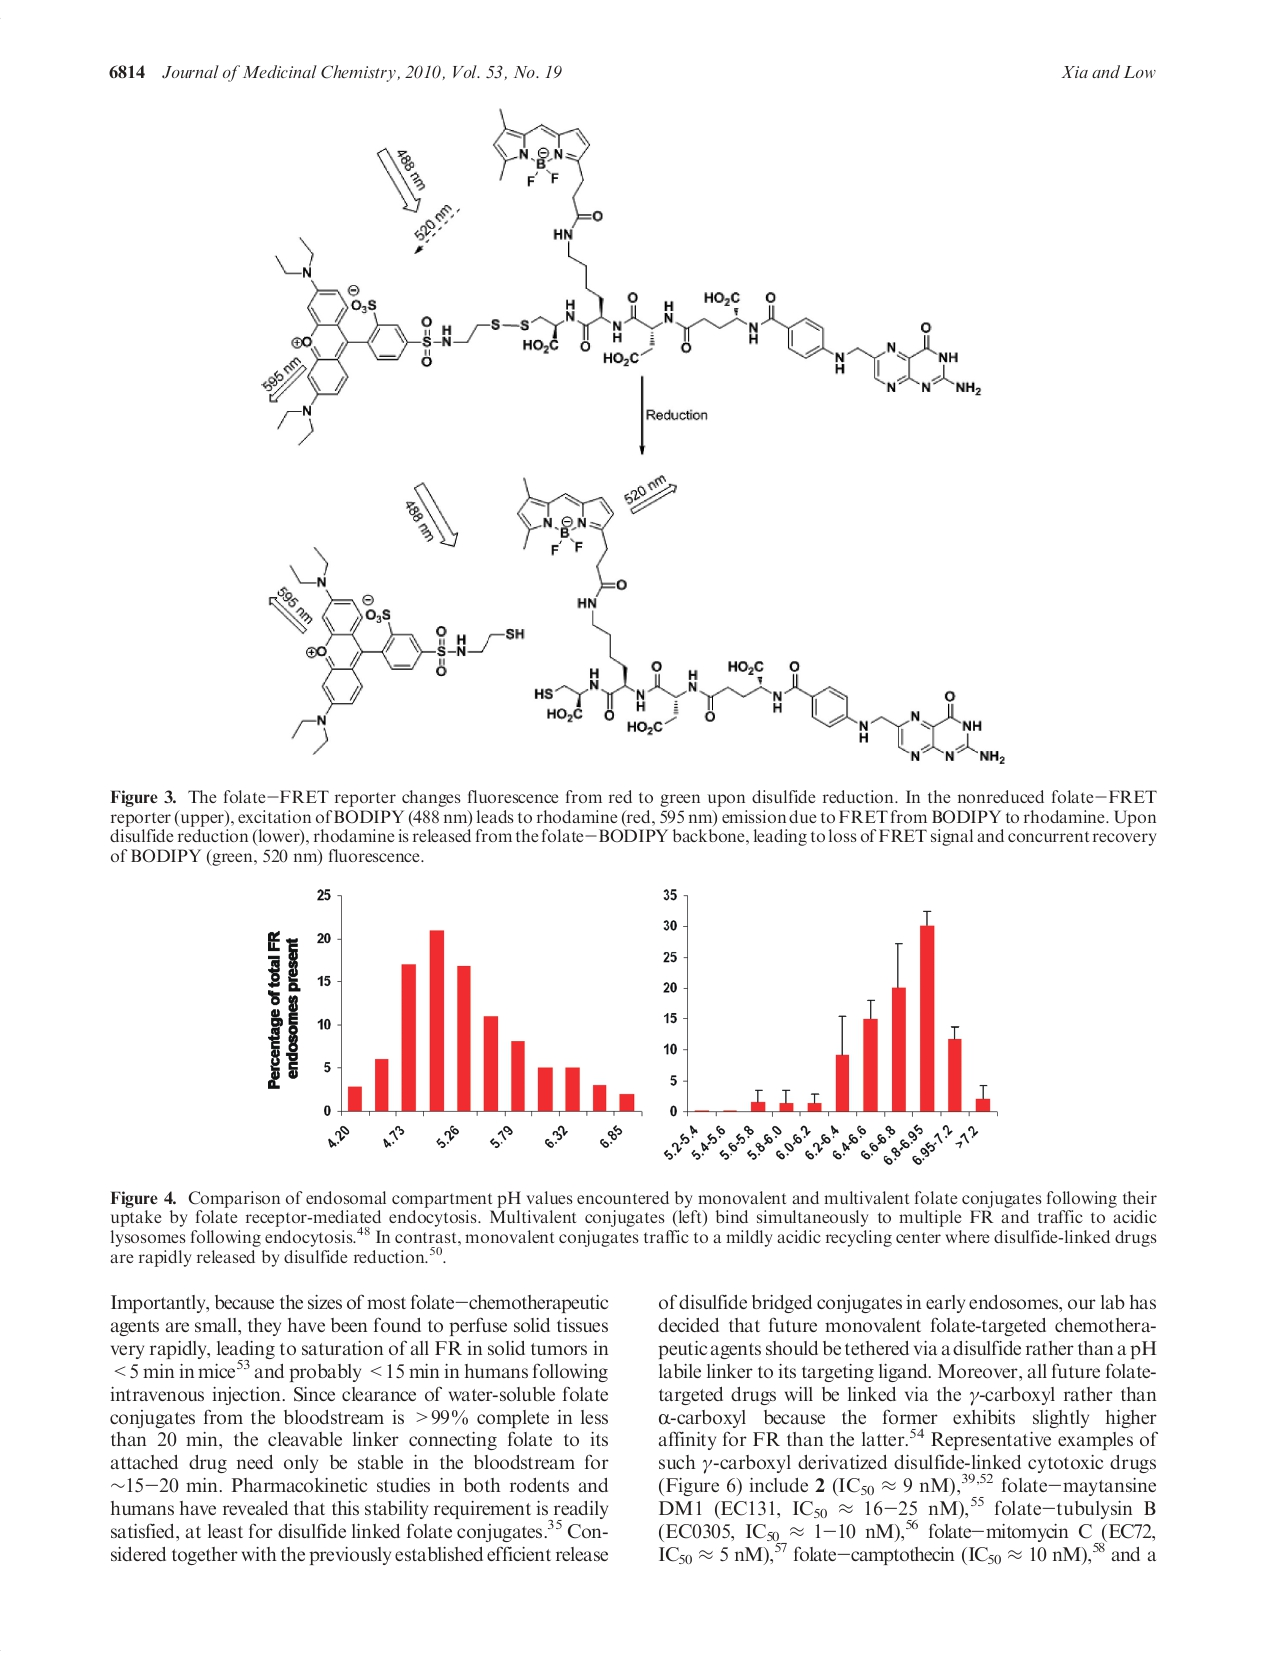exist_molecular: (273, 100, 984, 449), (285, 473, 1009, 769)
